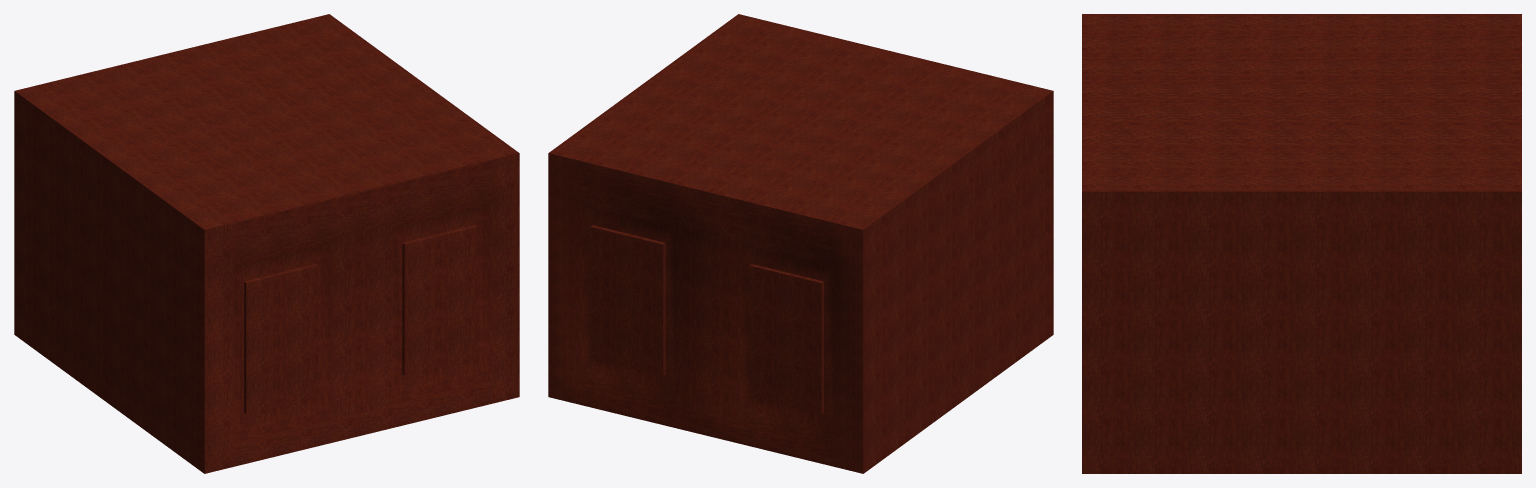
The model's file is WideStairLandingPodREVISED.fbx.
3 renders of one model, left to right at view 1: azimuth 30°, elevation 25°; view 2: azimuth 150°, elevation 25°; view 3: azimuth 270°, elevation 25°, orthographic. The views are drawn at different scales.
Parts seen in each view (by area): view 1: default; view 2: default; view 3: default.
Boxes of the visible parts, left/top/right/bottom form: default: left=14, top=14, right=519, bottom=473; default: left=548, top=14, right=1053, bottom=473; default: left=1082, top=14, right=1521, bottom=473.
Bounding box in the file's own units: 259 × 192 × 271.
